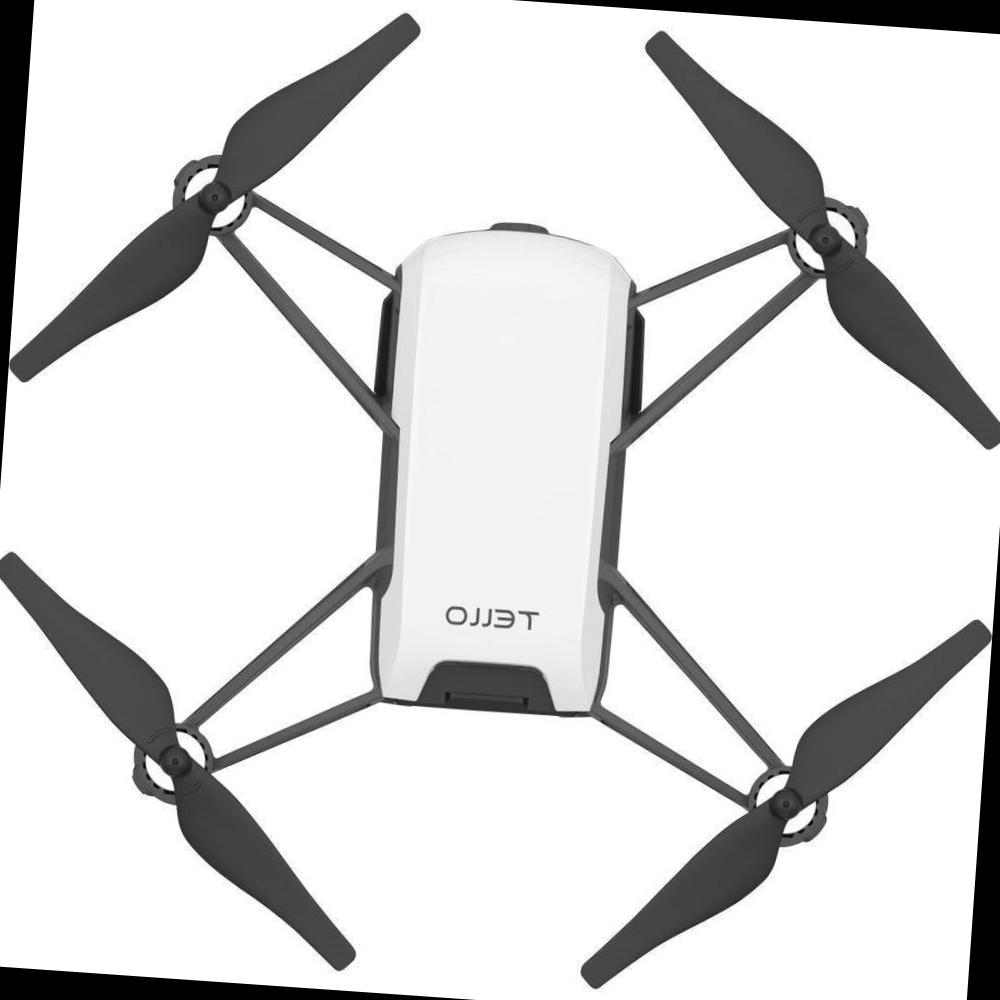drone: (0, 42, 1000, 954)
